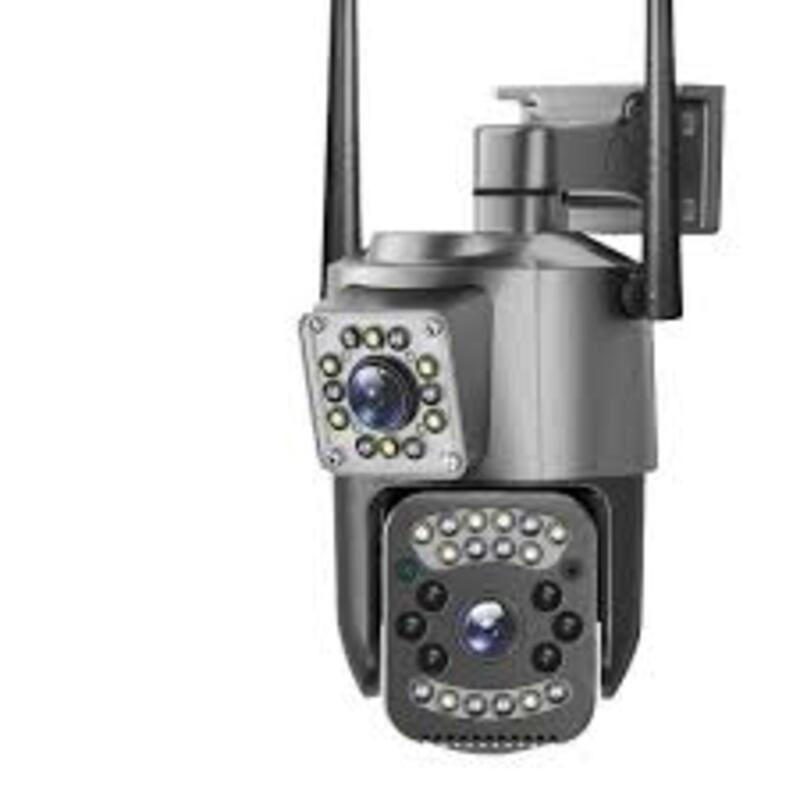bullet: (316, 223, 659, 748)
